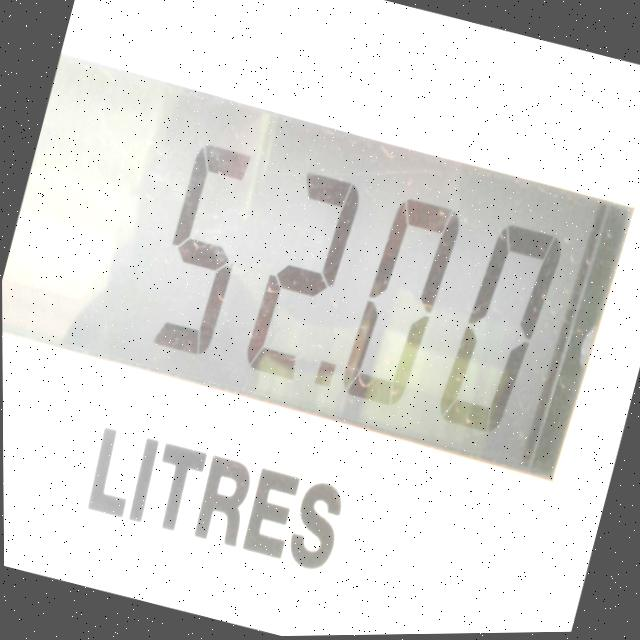.: (291, 340, 353, 418)
0: (421, 200, 578, 453), (323, 179, 471, 426)
2: (230, 153, 368, 402)
5: (122, 105, 288, 384)
